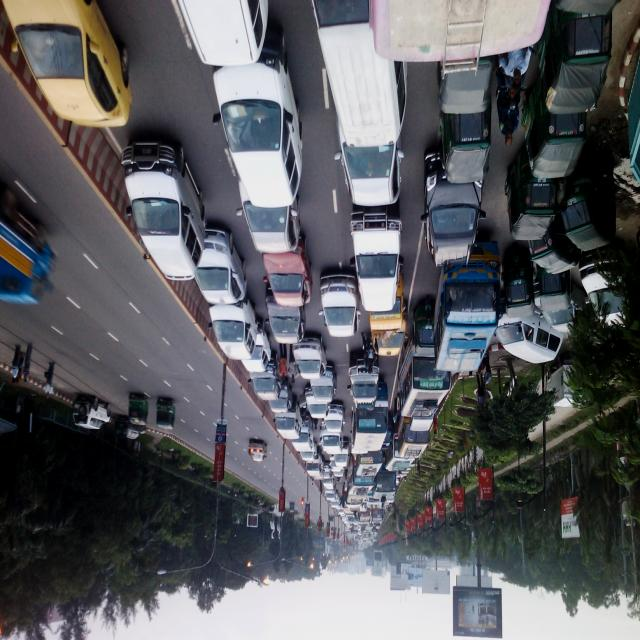black: (423, 148, 484, 268), (266, 286, 305, 346), (348, 354, 381, 409), (249, 352, 280, 400)
red: (260, 232, 314, 310)
silver: (123, 130, 200, 280), (337, 107, 401, 208), (236, 156, 300, 256), (188, 221, 246, 310), (319, 264, 359, 338), (290, 332, 328, 380)
white: (212, 31, 300, 204), (313, 0, 410, 148), (351, 202, 403, 311), (580, 241, 640, 333), (494, 298, 565, 362), (209, 288, 256, 360), (239, 320, 271, 373), (73, 398, 111, 432)
